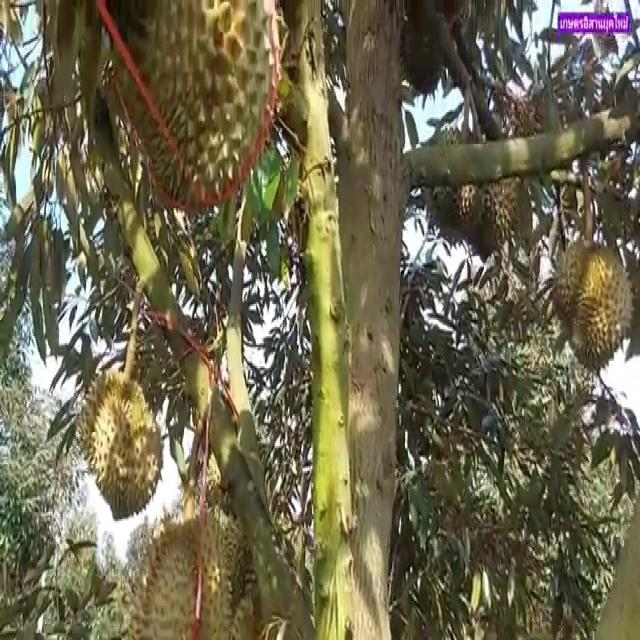durian: (106, 0, 286, 215), (122, 500, 266, 638), (76, 362, 166, 524), (550, 235, 633, 378), (418, 124, 490, 248), (459, 138, 518, 258)
